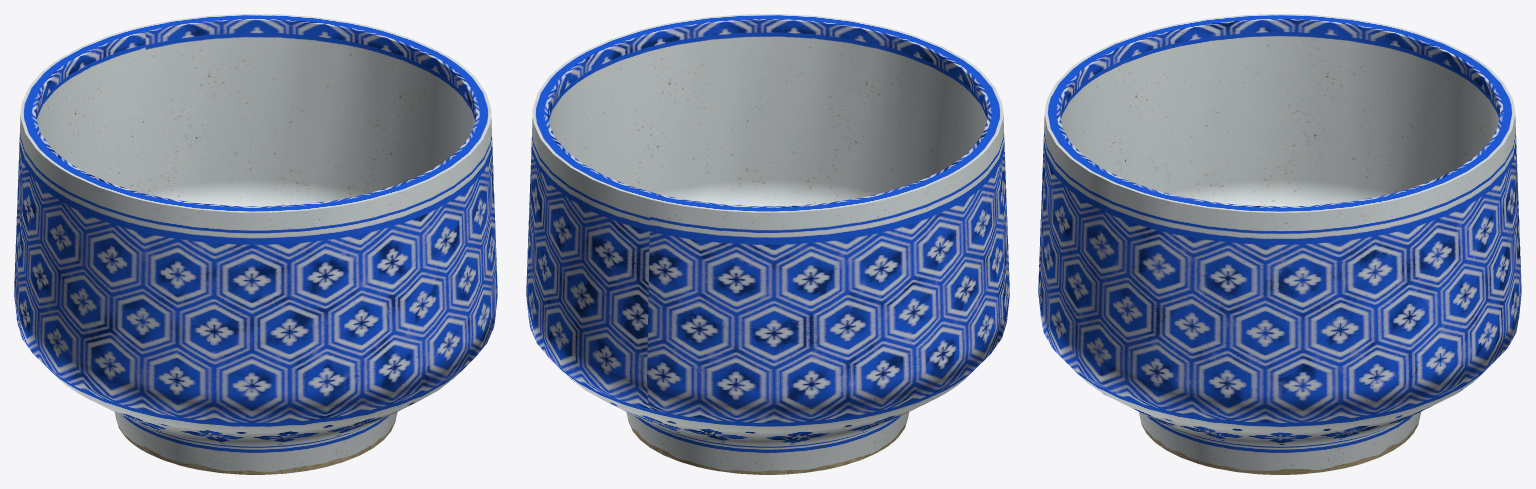
The model's file is NNJ0410011.fbx.
3 views of the same model, side by side, from view 1: azimuth 30°, elevation 25°; view 2: azimuth 150°, elevation 25°; view 3: azimuth 270°, elevation 25° (orthographic).
Visible parts, largest first — view 1: smNNJ0410011; view 2: smNNJ0410011; view 3: smNNJ0410011.
Part boxes in pixels (x1=…): smNNJ0410011: x1=14, y1=14, x2=497, y2=474; smNNJ0410011: x1=526, y1=14, x2=1009, y2=474; smNNJ0410011: x1=1038, y1=14, x2=1521, y2=474.
Bounding box in the file's own units: 38.58 × 26.61 × 38.58.
Materials: 1 (1 with a texture image).
